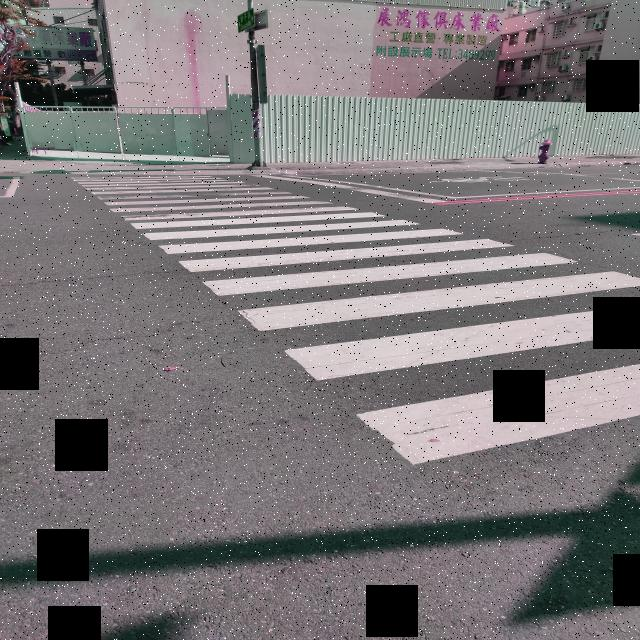zebra crossing: (78, 176, 640, 467)
